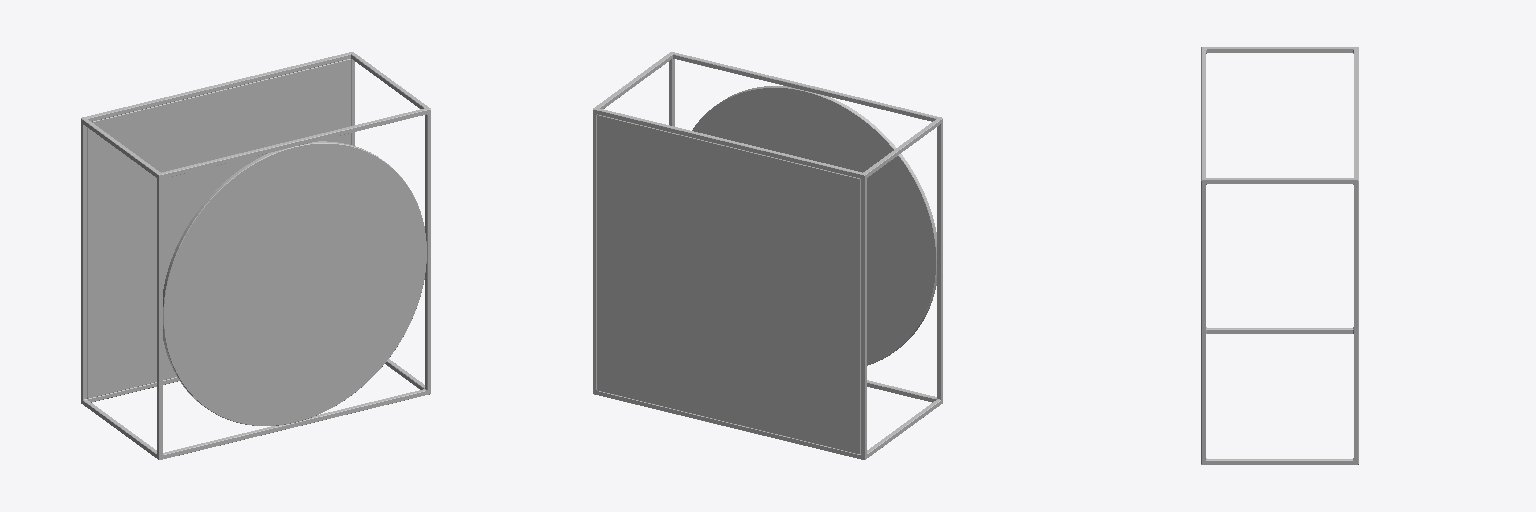
Rendered from traytable.obj.
The picture shows the model from 3 angles: view 1: azimuth 30°, elevation 25°; view 2: azimuth 150°, elevation 25°; view 3: azimuth 270°, elevation 25°; orthographic projection.
Parts seen in each view (by area): view 1: Roche_Bobois_G3_Table_with_Tray_mat3; view 2: Roche_Bobois_G3_Table_with_Tray_mat3; view 3: Roche_Bobois_G3_Table_with_Tray_mat3.
Boxes of the visible parts, <box> form: Roche_Bobois_G3_Table_with_Tray_mat3: <box>81,52,430,459</box>; Roche_Bobois_G3_Table_with_Tray_mat3: <box>593,52,942,459</box>; Roche_Bobois_G3_Table_with_Tray_mat3: <box>1201,47,1358,464</box>.
Bounding box in the file's own units: 70 × 70 × 35.